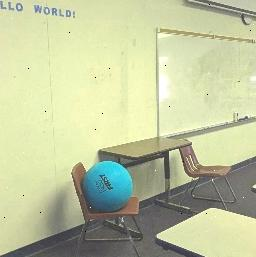algae: (80, 158, 134, 212)
